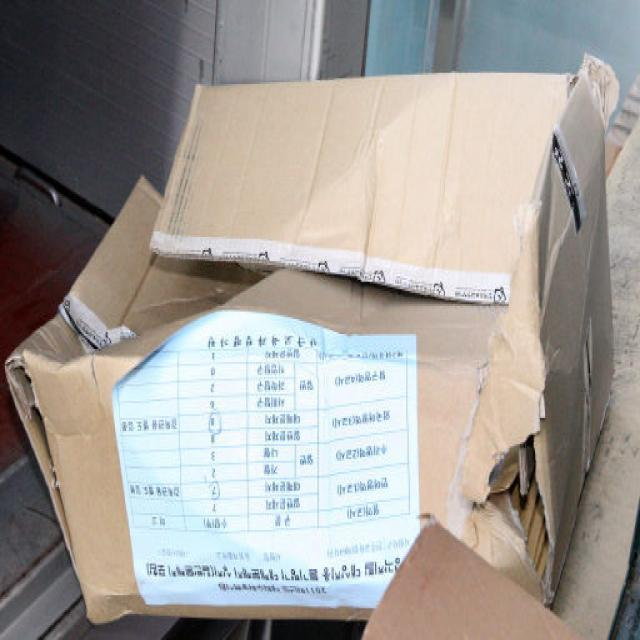damaged: (486, 432, 570, 593)
